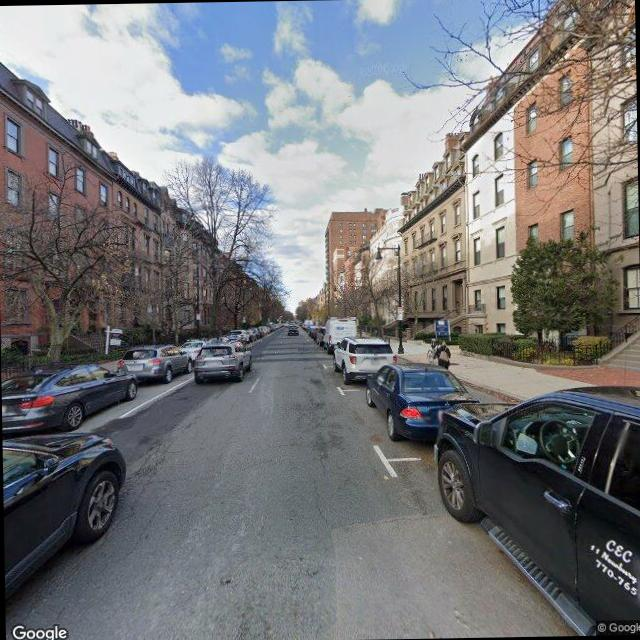crack: (126, 432, 176, 494)
pothole: (310, 416, 330, 529)
